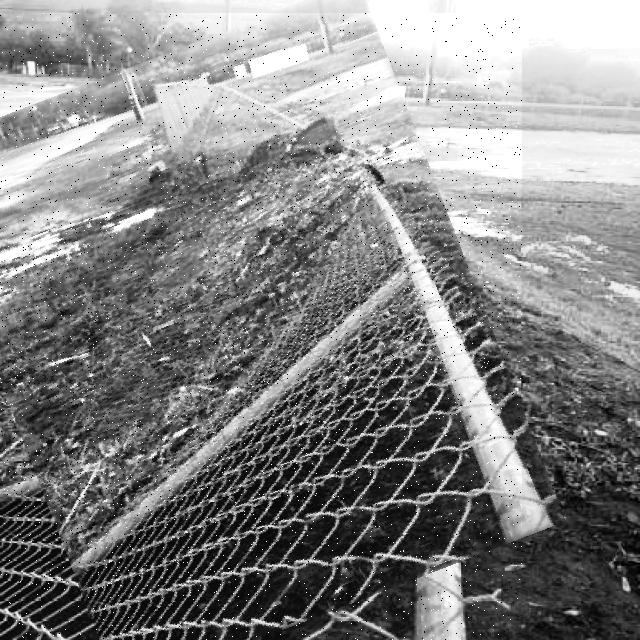anomaly-fence: (0, 13, 522, 640)
